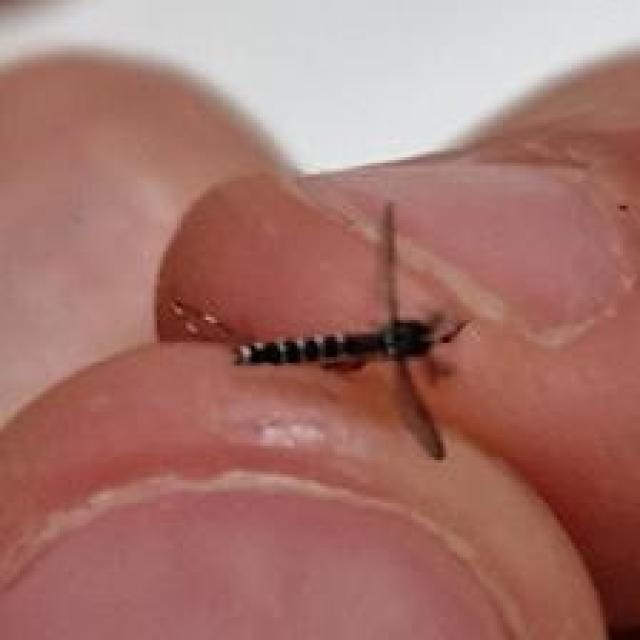Aedes albopictus: (230, 198, 473, 462)
